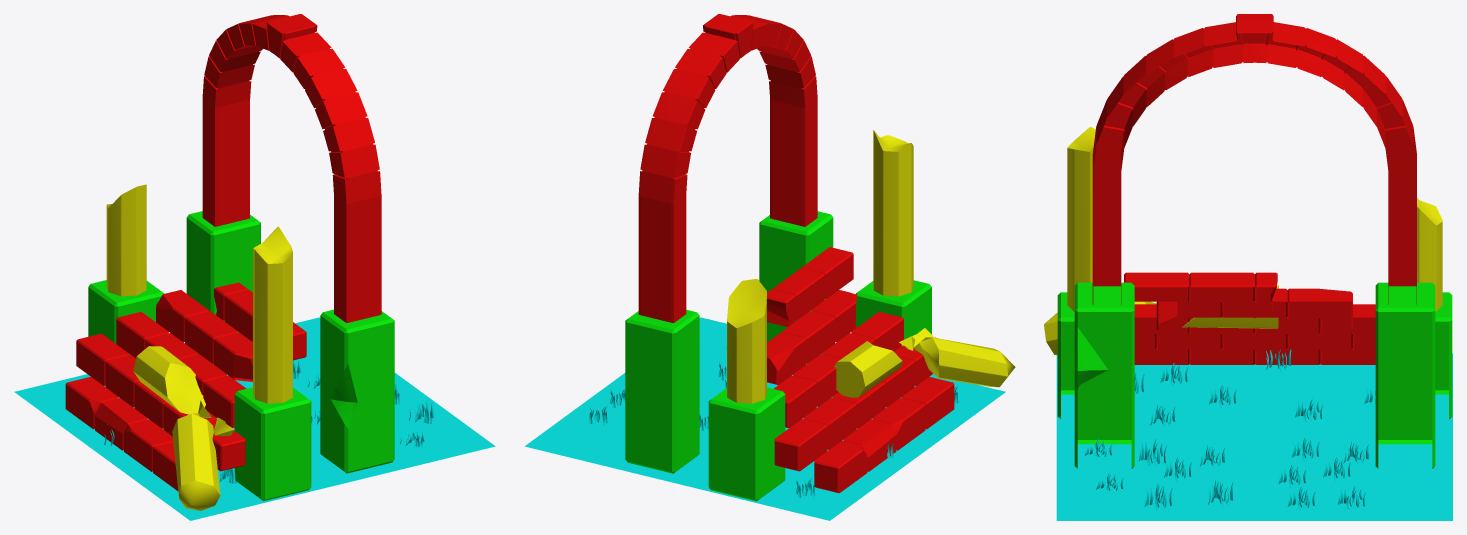
Rendered from Forest_RuinedStairs_Model 1.fbx.
3 renders of one model, left to right at view 1: azimuth 30°, elevation 25°; view 2: azimuth 150°, elevation 25°; view 3: azimuth 270°, elevation 25°, orthographic. The views are drawn at different scales.
Parts seen in each view (by area): view 1: archway; view 2: archway; view 3: archway.
Boxes of the visible parts, left/top/right/bottom form: archway: left=14, top=14, right=495, bottom=520; archway: left=524, top=14, right=1015, bottom=520; archway: left=1044, top=14, right=1452, bottom=520.
Bounding box in the file's own units: 4.09 × 4.84 × 4.13.
